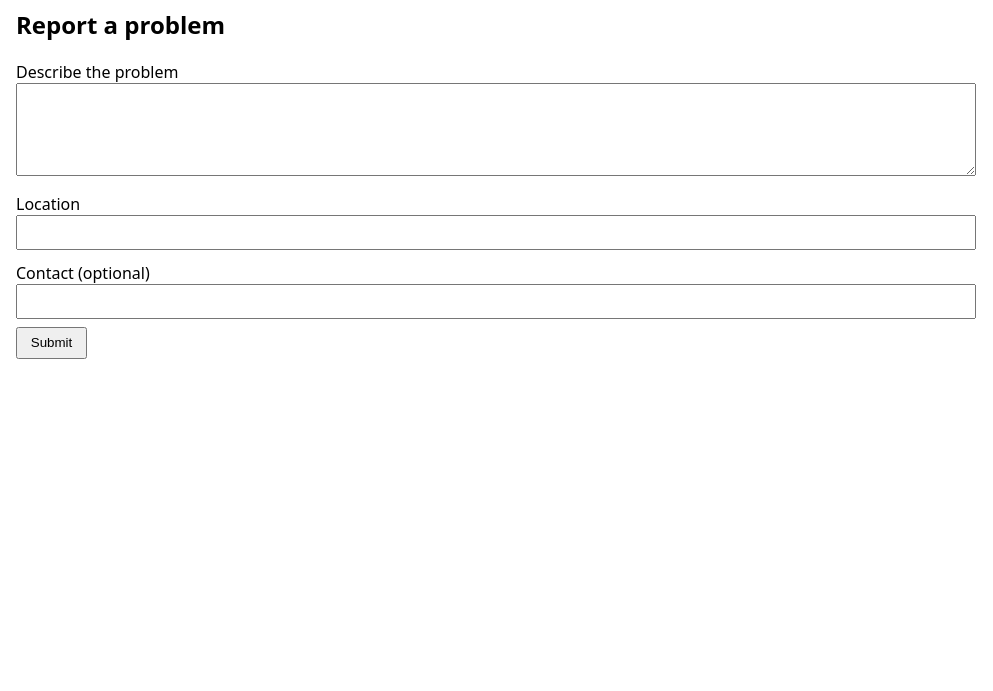
Test: SubmitPage › shows category, priority, summary and provider after success
The image size is (993, 691).
Type "Water pipe burst near Street 12" into the text box labelled "Describe the problem" at (496, 129), box [16,83,976,176]
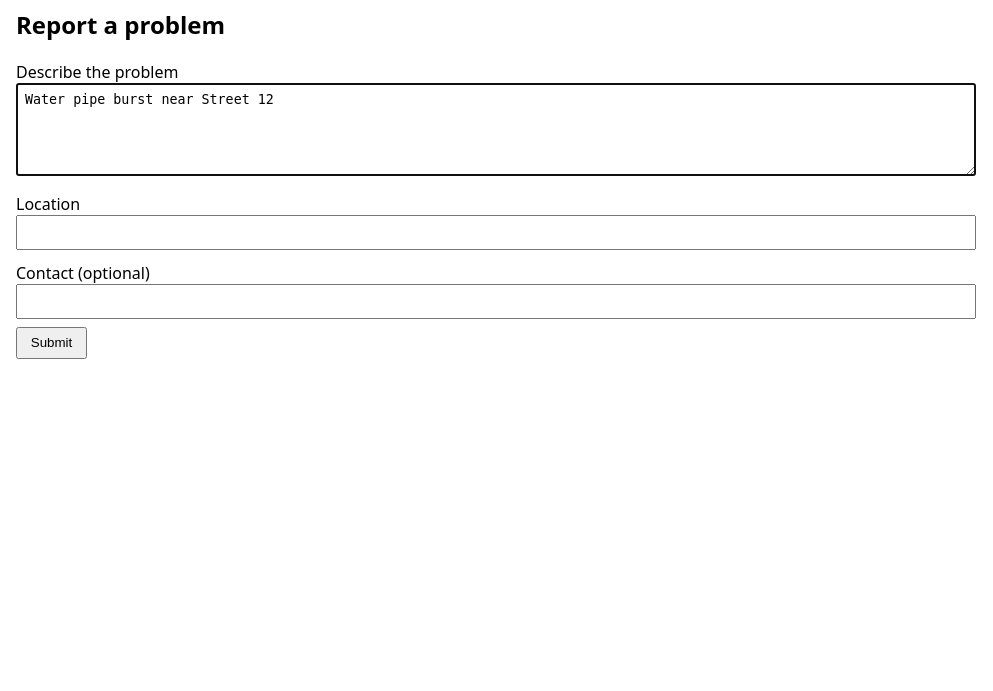
Type "Street 12, Islamabad" into the field labelled "Location" at (496, 232), box [16,215,976,250]
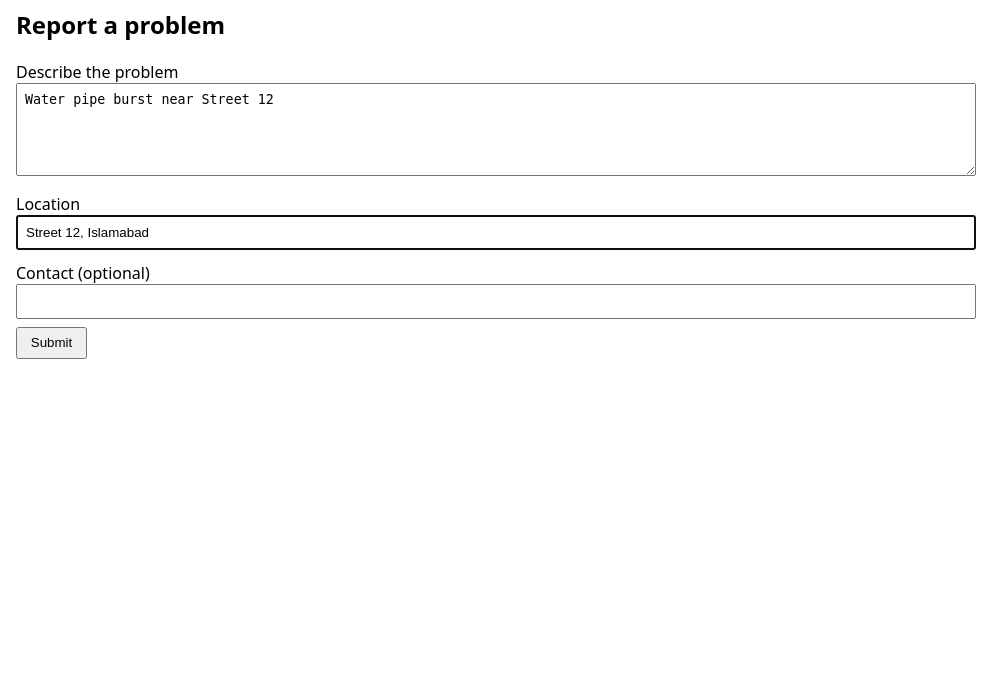
Click the button "Submit" at (52, 343), box [16,327,87,359]
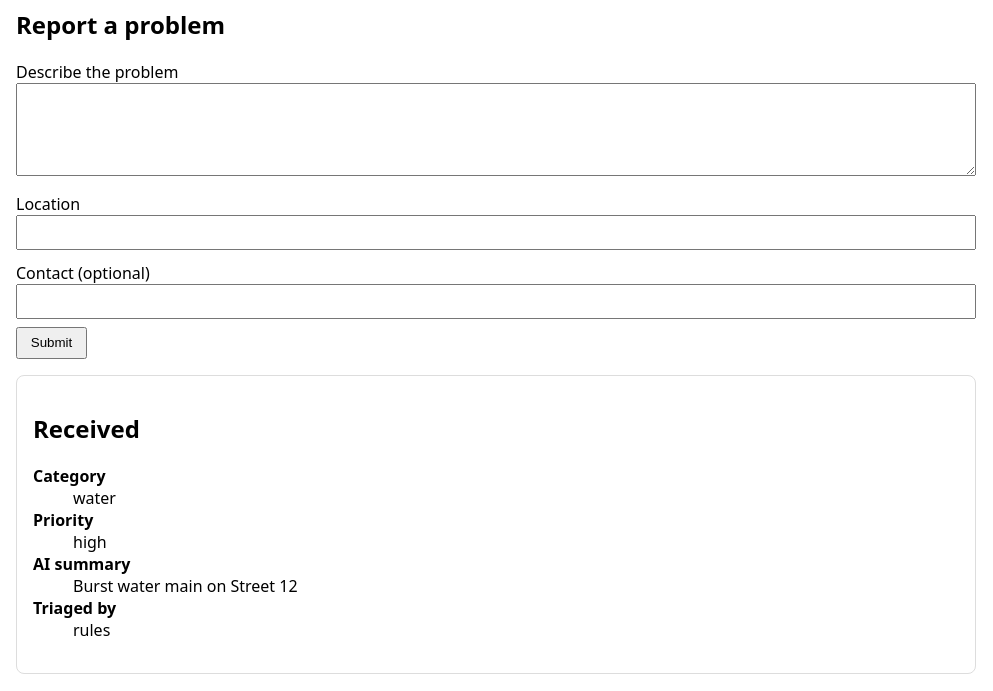
Expected: the element with test id "result" shows "water", [73,486,116,508]
Expected: the element with test id "result" shows "high", [73,530,107,552]
Expected: the element with test id "result" shows "Burst water main on Street 12", [73,574,298,596]
